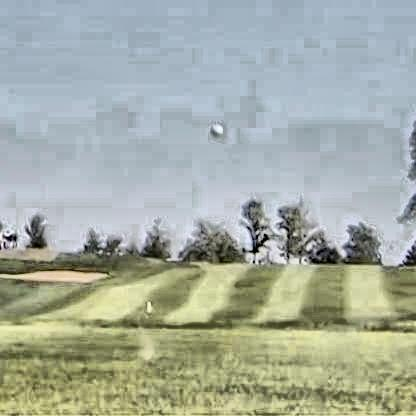golfball: (207, 120, 221, 136)
